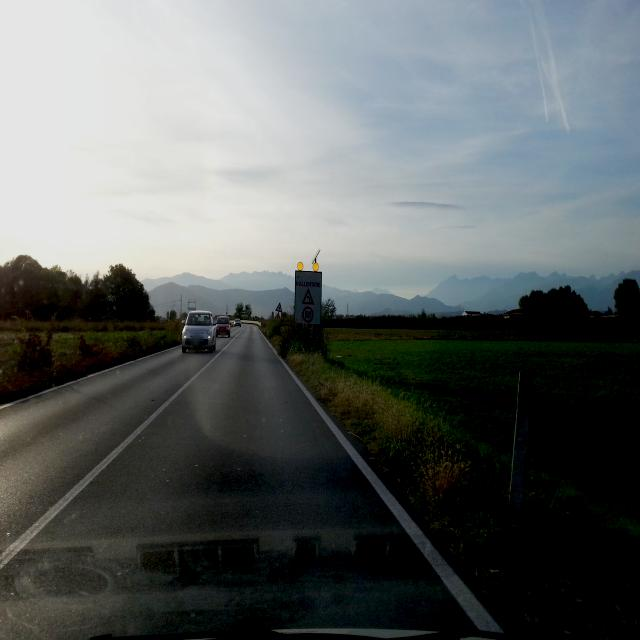car: (180, 308, 218, 354), (215, 314, 231, 337), (233, 319, 243, 328)
